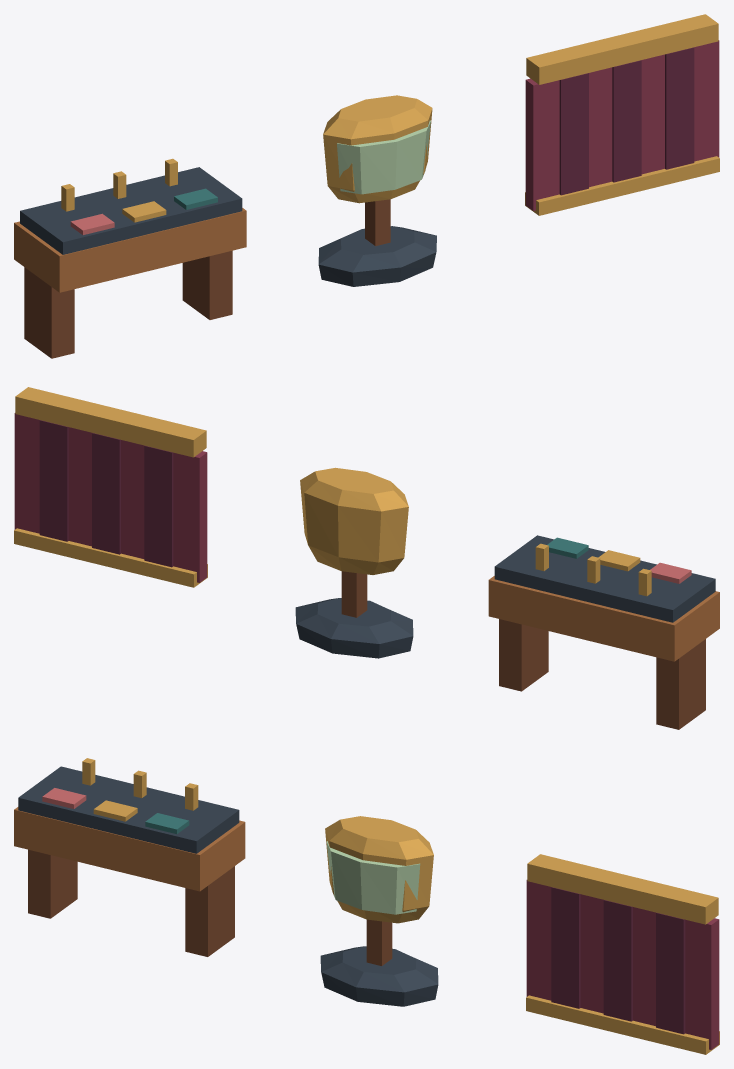
Rendered from fon-furina-cues-model.obj.
The picture shows the model from 3 angles, top to bottom: view 1: azimuth 30°, elevation 25°; view 2: azimuth 150°, elevation 25°; view 3: azimuth 330°, elevation 25°; orthographic projection.
Parts seen in each view (by area): view 1: RehearsalEquipment; view 2: RehearsalEquipment; view 3: RehearsalEquipment.
Part boxes in pixels (left/top/right/bottom): RehearsalEquipment: left=14, top=14, right=719, bottom=358; RehearsalEquipment: left=14, top=387, right=719, bottom=729; RehearsalEquipment: left=14, top=758, right=719, bottom=1054.
Bounding box in the file's own units: 4.48 × 1.04 × 0.55.
